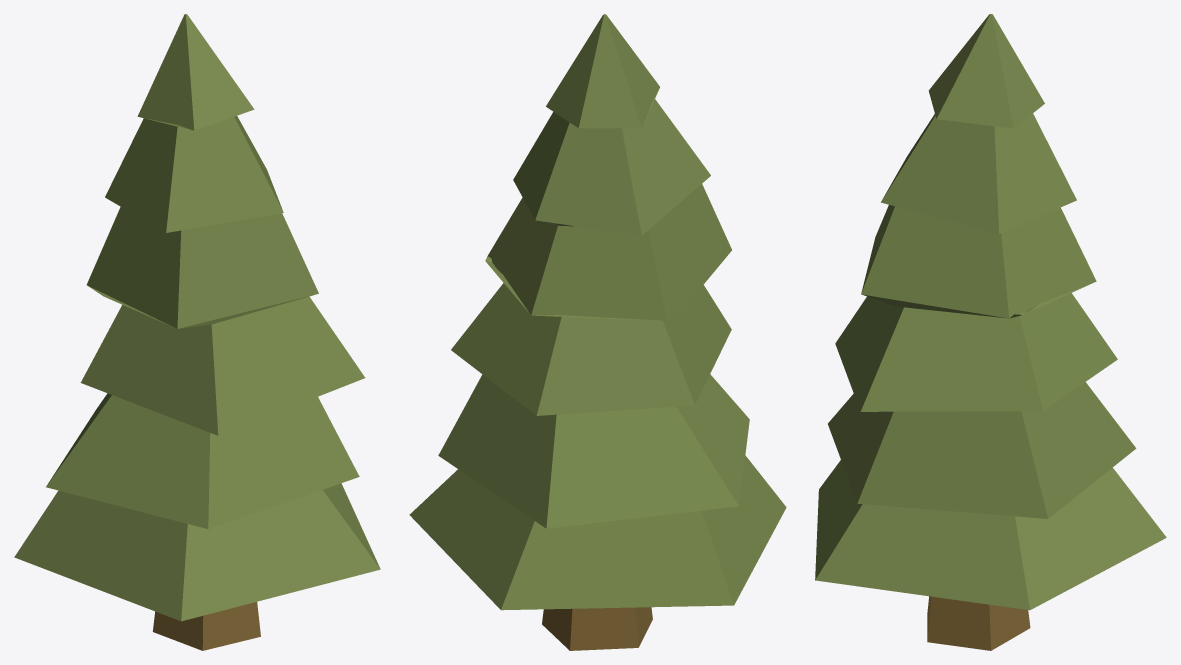
The model's file is spruce_tree.fbx.
The picture shows the model from 3 angles, left to right: view 1: azimuth 30°, elevation 25°; view 2: azimuth 150°, elevation 25°; view 3: azimuth 270°, elevation 25°; orthographic projection. The views are drawn at different scales.
Parts seen in each view (by area): view 1: Cylinder.002; view 2: Cylinder.002; view 3: Cylinder.002.
Part boxes in pixels (bbox=[...]): Cylinder.002: bbox=[14, 14, 380, 650]; Cylinder.002: bbox=[409, 14, 786, 650]; Cylinder.002: bbox=[815, 14, 1166, 650].
Bounding box in the file's own units: 303 × 551 × 290.
